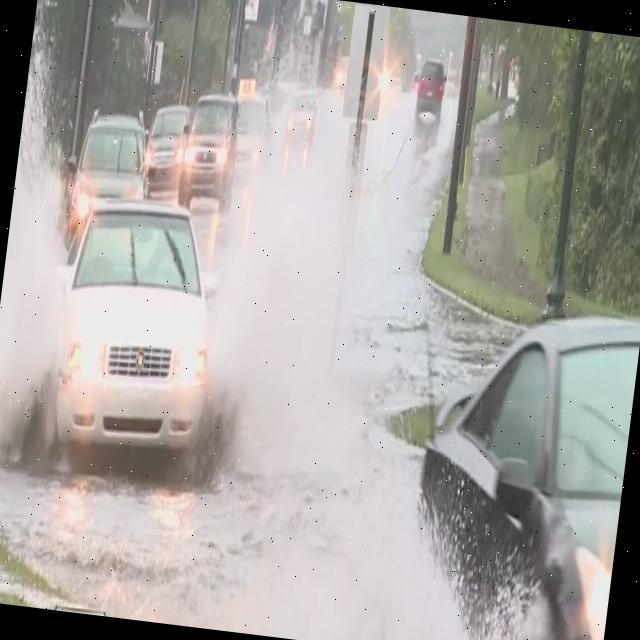car: (367, 286, 640, 640), (41, 186, 231, 480), (61, 105, 157, 250), (178, 96, 242, 196), (226, 89, 283, 187), (141, 98, 190, 184), (411, 57, 446, 125), (283, 80, 318, 138)
